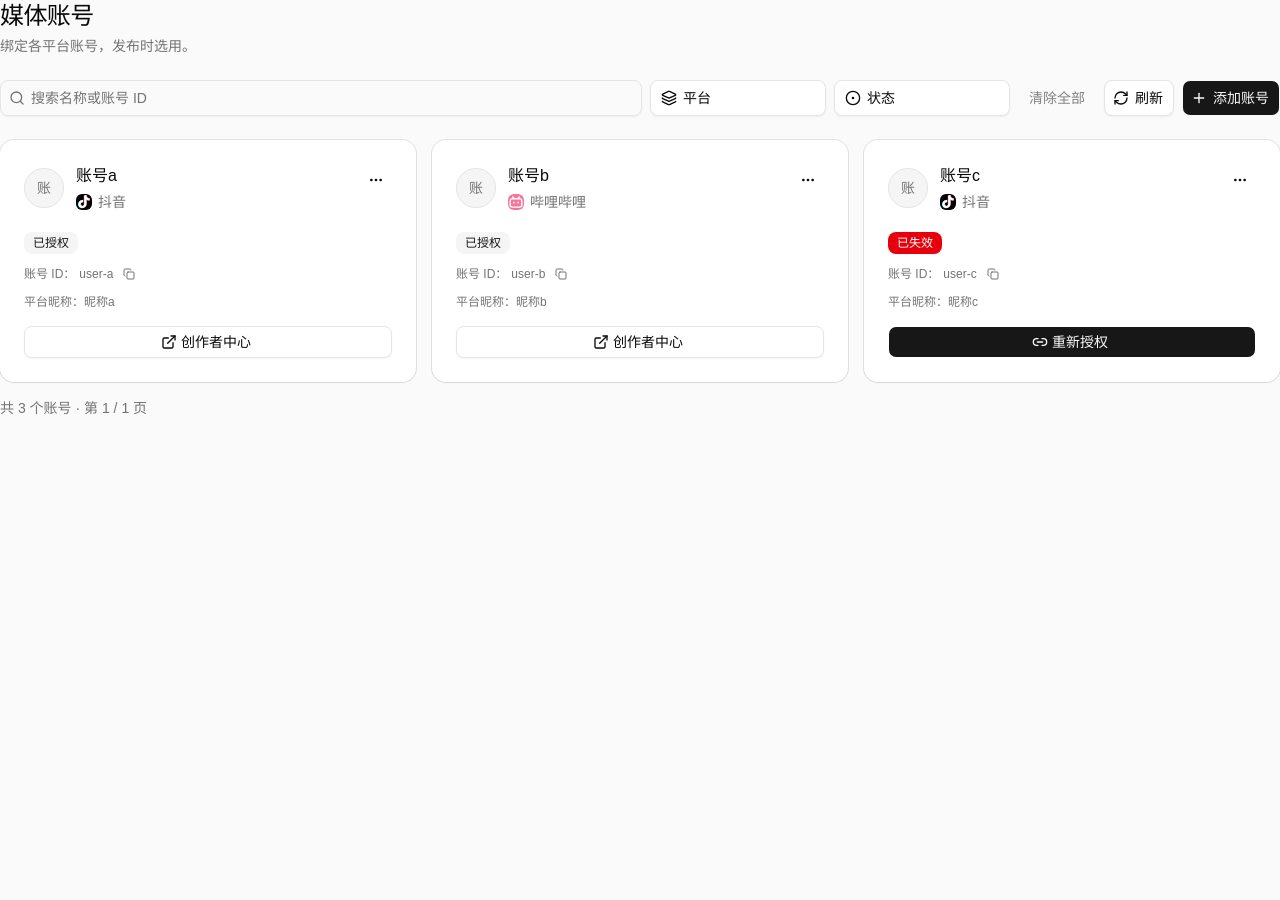
Test: offers naming a newly added account whose nickname is unavailable
Check: the text "共 3 个账号 · 第 1 / 1 页" is shown, box [0,398,147,418]
Click the button "添加账号". click: (1231, 98)
box: [1182,80,1279,116]
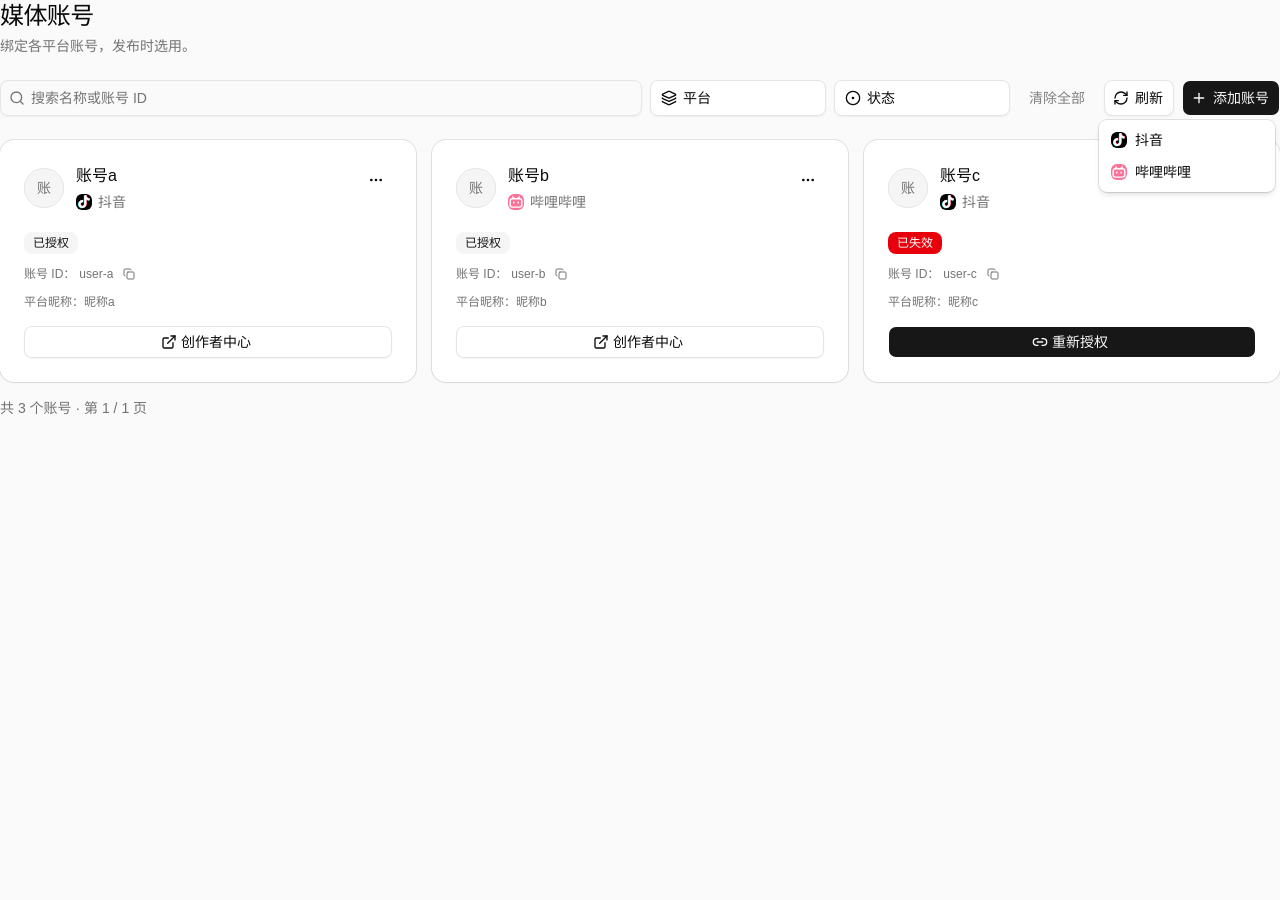
Click the menu item "抖音". click: (1137, 140)
box: [1111,132,1163,148]
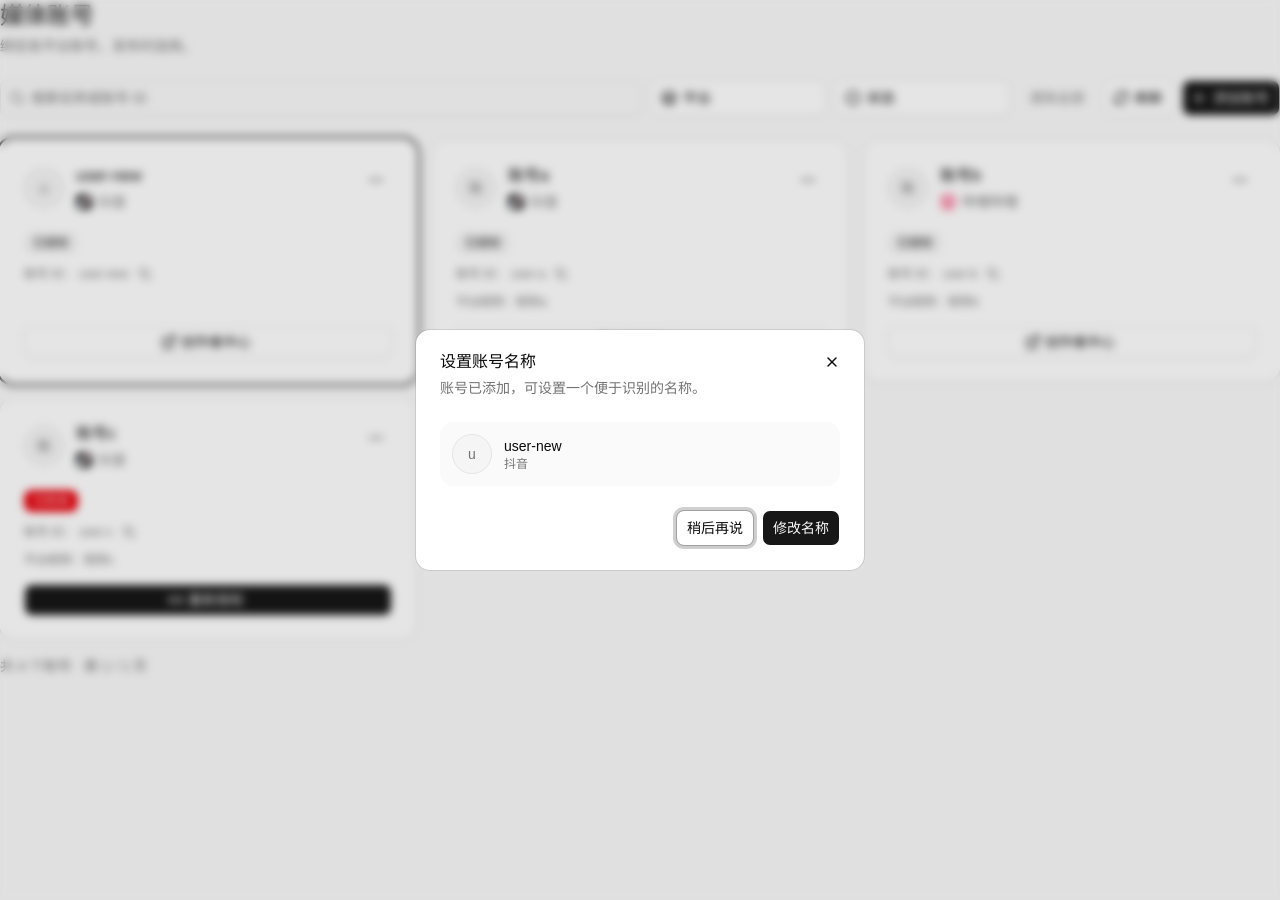
Click the button "修改名称". click: (801, 528)
box: [762,510,840,546]
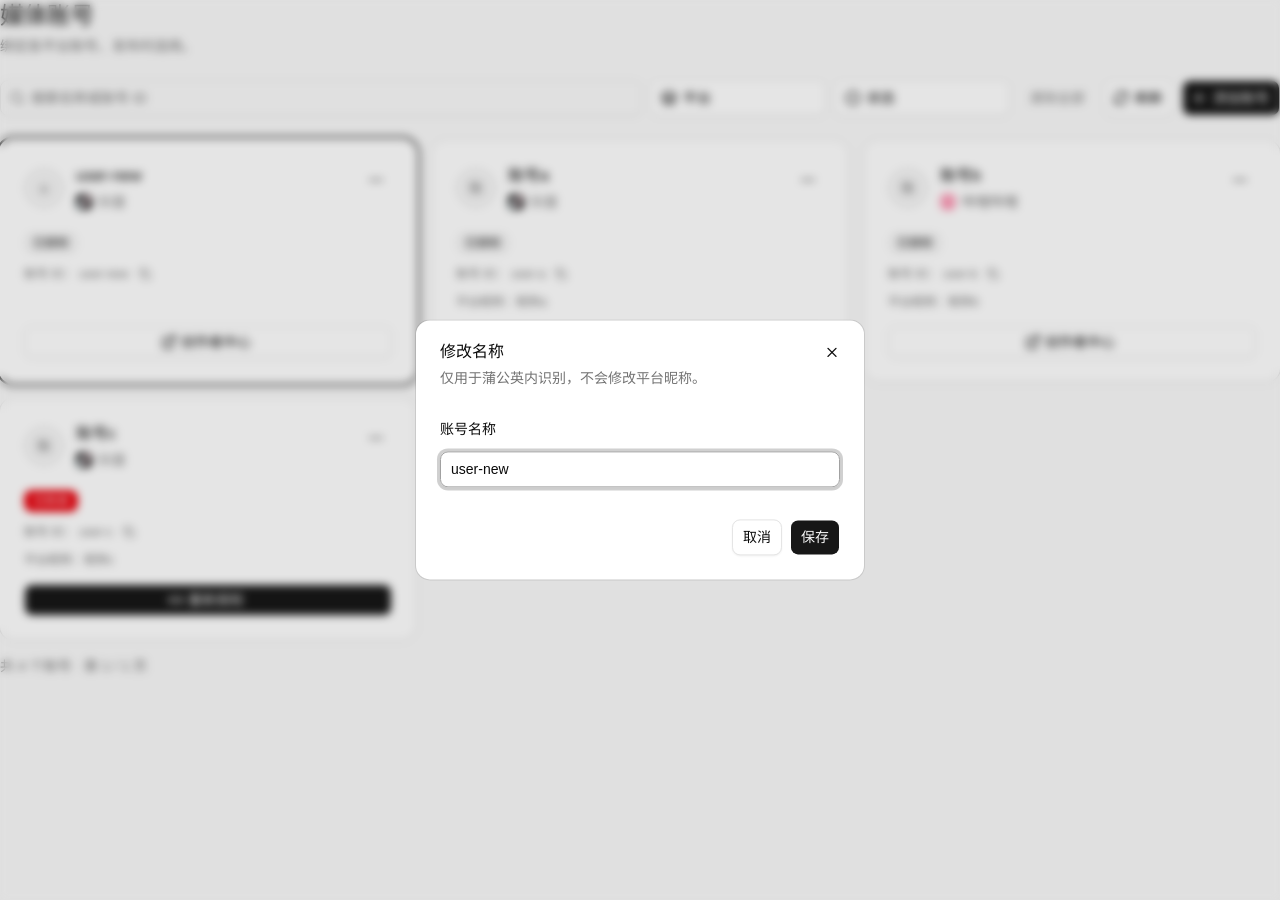
Check: the dialog "修改名称" is shown, box [416,320,864,580]
Check: the field labelled "账号名称" holds "user-new", box [440,452,840,488]
